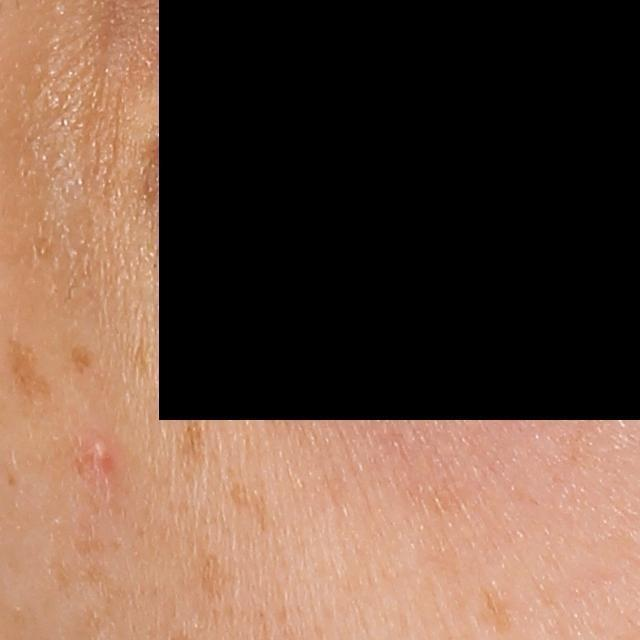melasma: (72, 560, 146, 640), (7, 332, 56, 409), (223, 466, 275, 537), (193, 551, 236, 607), (179, 396, 211, 470), (66, 341, 99, 378)
